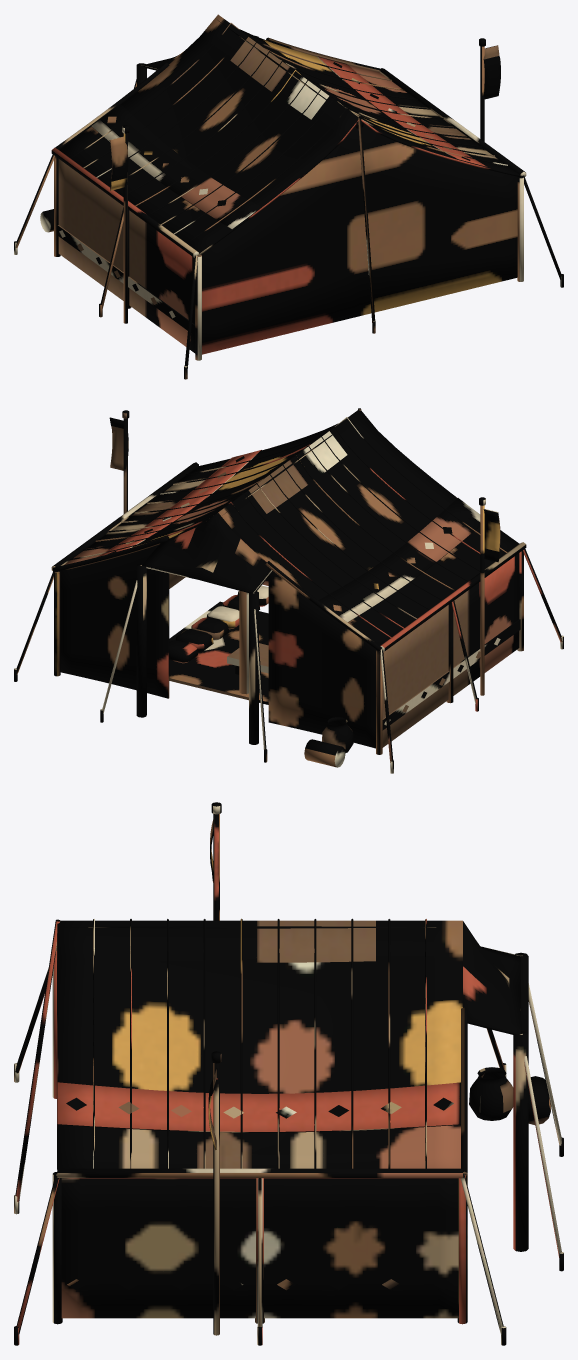
The picture shows the model from 3 angles, top to bottom: view 1: azimuth 30°, elevation 25°; view 2: azimuth 150°, elevation 25°; view 3: azimuth 270°, elevation 25°; orthographic projection. The views are drawn at different scales.
Visible parts, largest first — view 1: garrison_part_0003, garrison_part_0002, garrison_part_0004, garrison_part_0001; view 2: garrison_part_0002, garrison_part_0003, garrison_part_0004, garrison_part_0001, garrison_part_0000; view 3: garrison_part_0002, garrison_part_0003, garrison_part_0001, garrison_part_0004, garrison_part_0000.
Part boxes in pixels (x1,y1,x2,y2): garrison_part_0003: [55, 37, 518, 354]; garrison_part_0002: [15, 14, 561, 368]; garrison_part_0004: [40, 38, 500, 323]; garrison_part_0001: [54, 20, 523, 360]; garrison_part_0002: [16, 408, 562, 762]; garrison_part_0003: [52, 536, 520, 748]; garrison_part_0004: [109, 410, 500, 767]; garrison_part_0001: [54, 420, 523, 754]; garrison_part_0000: [14, 601, 563, 773]; garrison_part_0002: [15, 918, 561, 1334]; garrison_part_0003: [61, 1007, 467, 1318]; garrison_part_0001: [52, 926, 528, 1324]; garrison_part_0004: [208, 802, 550, 1335]; garrison_part_0000: [14, 1063, 563, 1345].
Size of the model in its own units: 1660 by 841 by 1423.
